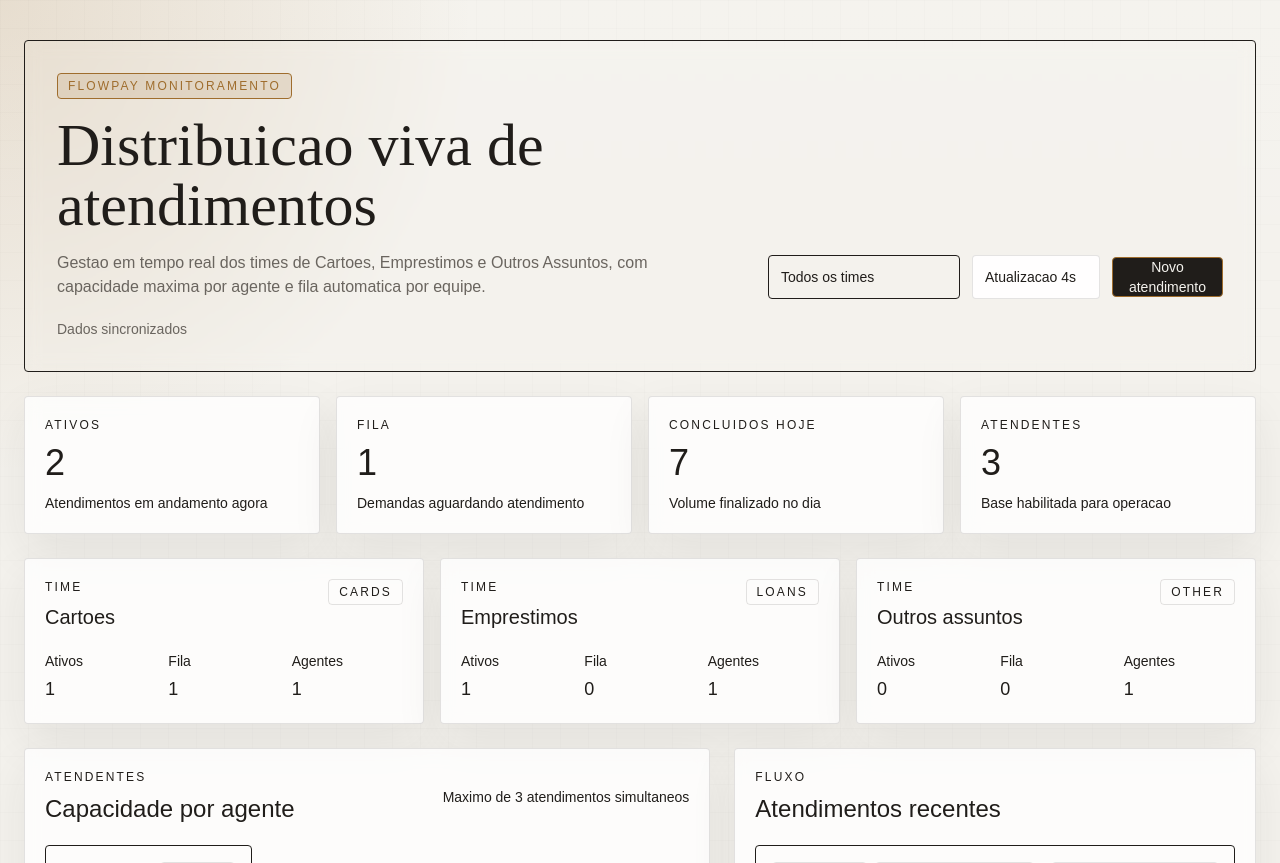
Test case: DashboardScreen integration › shows front validation feedback before submitting empty values
Check: the heading "Distribuicao viva de atendimentos" is shown, box [57, 112, 544, 238]
Click the button "Novo atendimento".
click(1167, 277)  # box [1112, 257, 1223, 297]
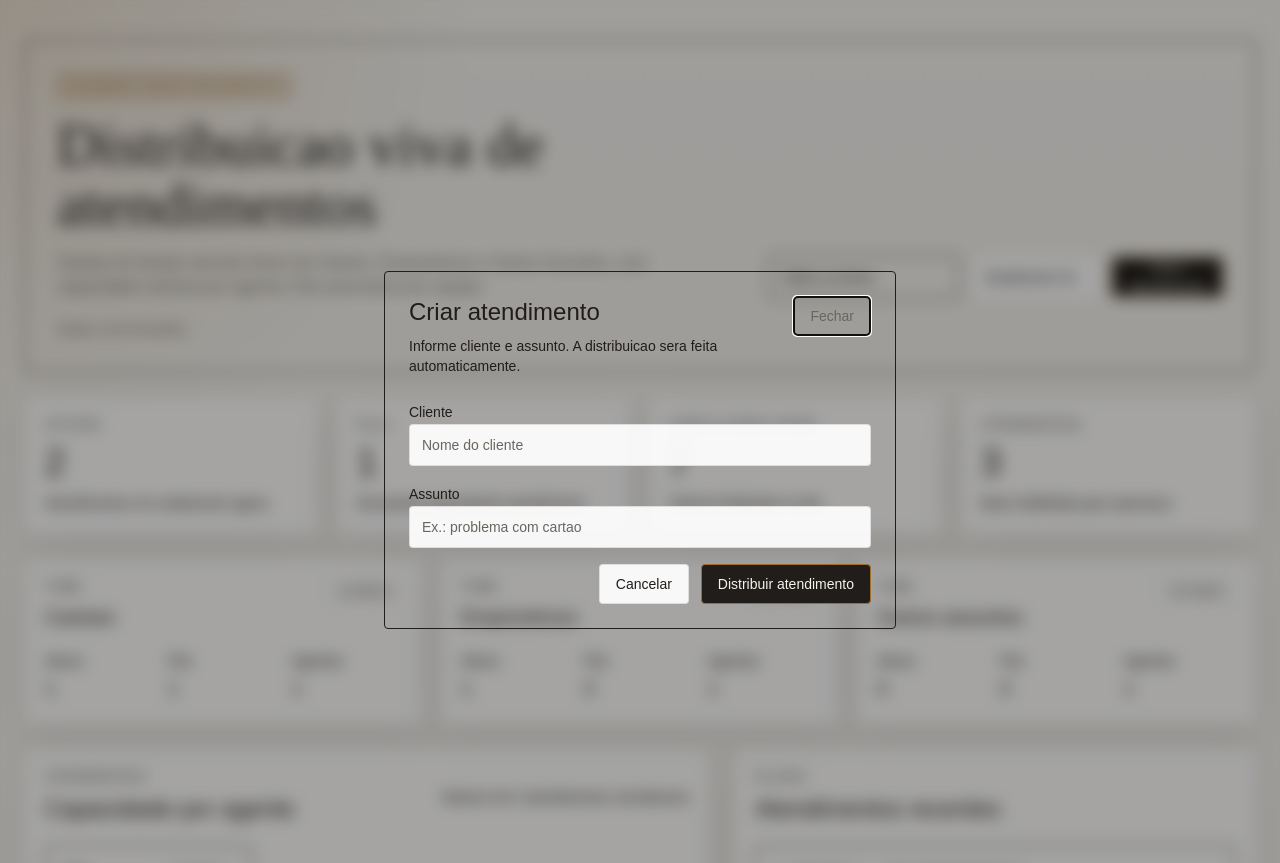
Click the button "Distribuir atendimento".
click(786, 584)  # box [701, 564, 871, 604]
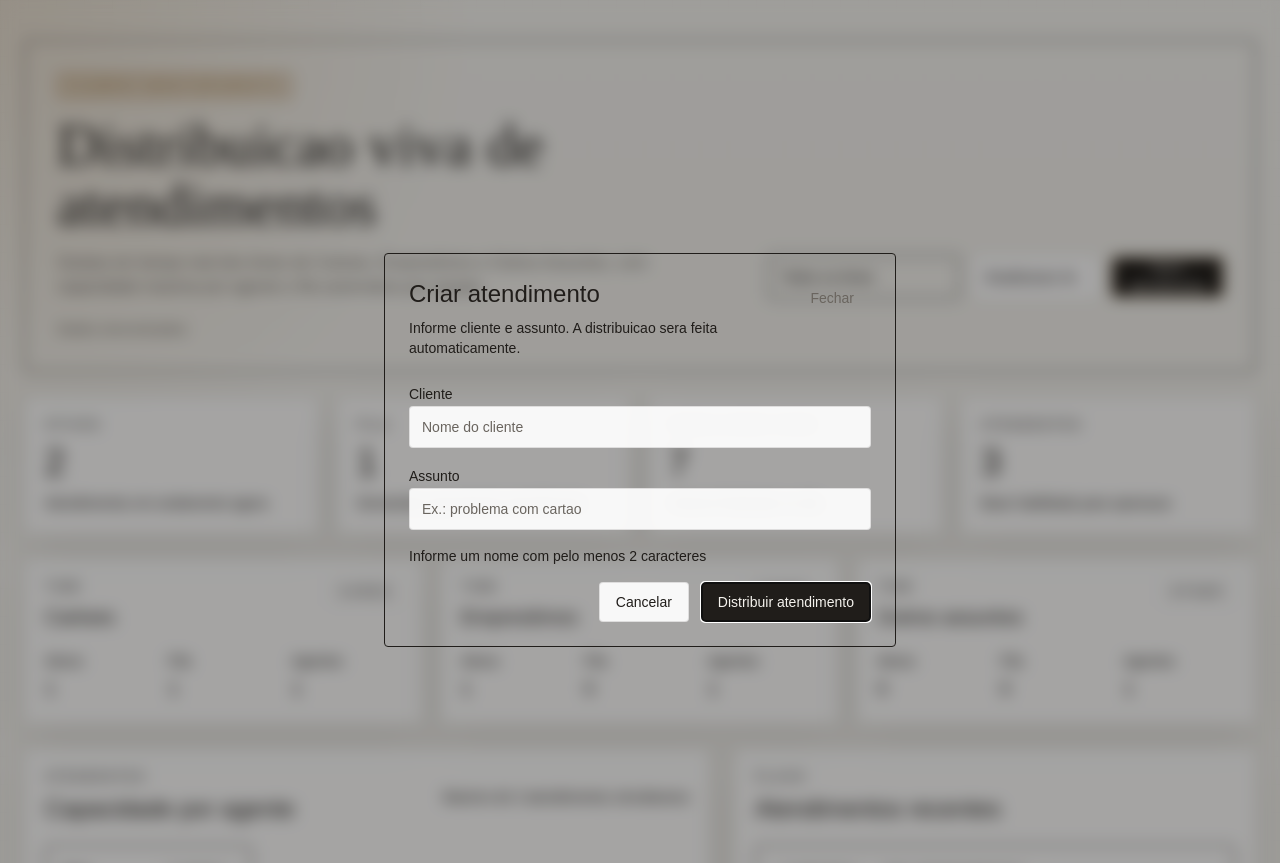
Check: the text "Informe um nome com pelo menos 2 caracteres" is shown, box [409, 548, 706, 564]
